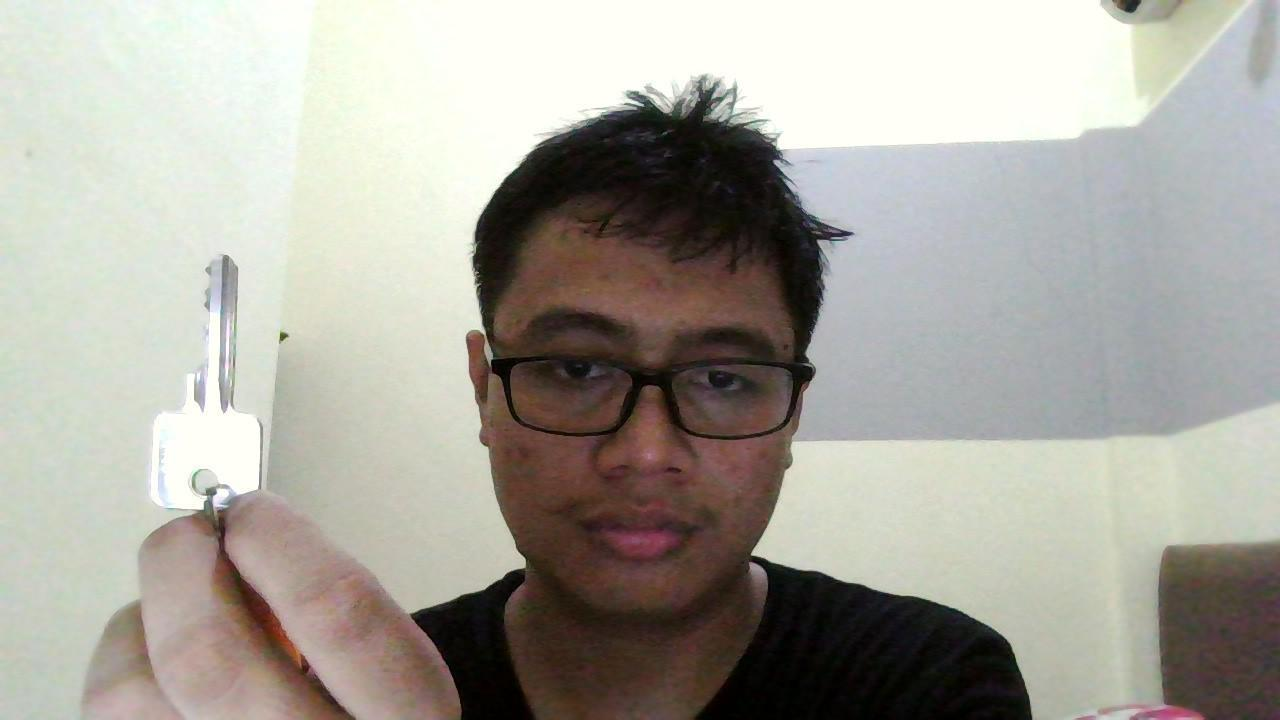keys: (141, 232, 278, 535)
